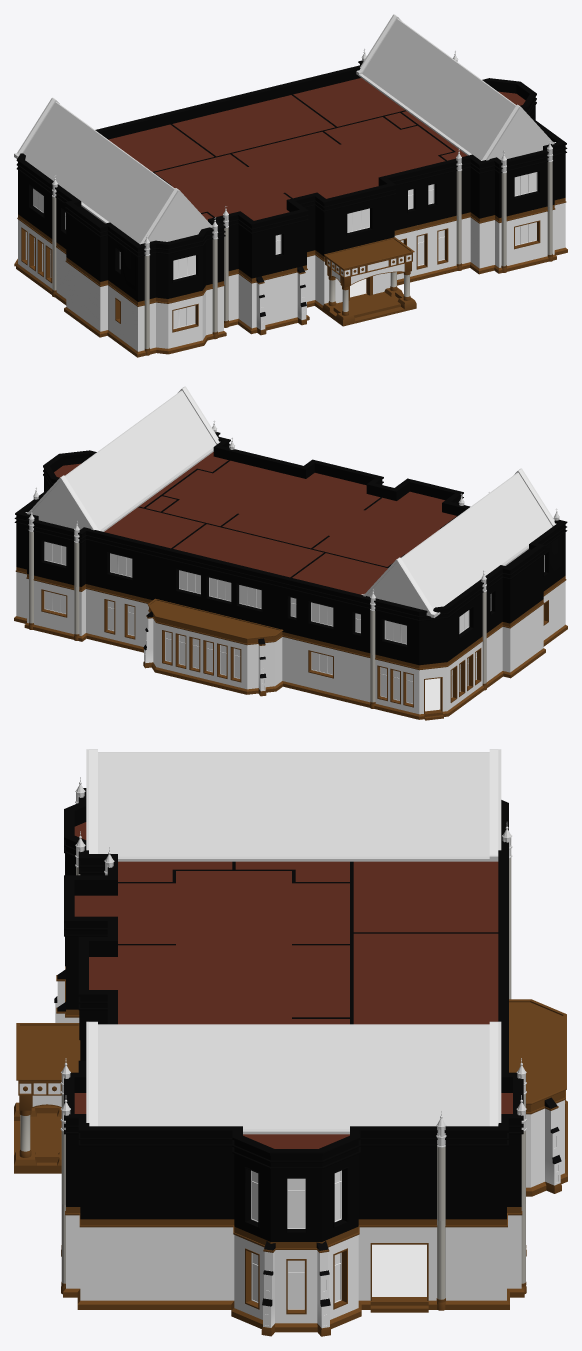
File: The Manor.fbx
The picture shows the model from 3 angles, top to bottom: view 1: azimuth 30°, elevation 25°; view 2: azimuth 150°, elevation 25°; view 3: azimuth 270°, elevation 25°; orthographic projection. The views are drawn at different scales.
Parts seen in each view (by area): view 1: First Floor, Ground floor, Ceiling001, Box004, Box005, Floor; view 2: First Floor, Ground floor, Ceiling001, Box004, Box005, Floor; view 3: Ceiling001, Ground floor, First Floor, Box005, Box004, Floor.
Boxes of the visible parts, x1,y1,x2,y2 form: First Floor: (16, 60, 567, 301); Ground floor: (16, 161, 567, 357); Ceiling001: (108, 78, 525, 220); Box004: (356, 14, 555, 160); Box005: (14, 97, 212, 244); Floor: (14, 259, 404, 323); First Floor: (14, 432, 567, 665); Ground floor: (14, 531, 567, 719); Ceiling001: (54, 452, 456, 594); Box004: (25, 386, 220, 531); Box005: (361, 468, 556, 617); Floor: (424, 678, 443, 720); Ceiling001: (74, 822, 512, 1148); Ground floor: (14, 858, 567, 1336); First Floor: (64, 788, 523, 1241); Box005: (86, 749, 501, 861); Box004: (86, 1021, 501, 1134); Floor: (14, 1116, 428, 1312).
Bounding box in the file's own units: 1210 × 752 × 378.
